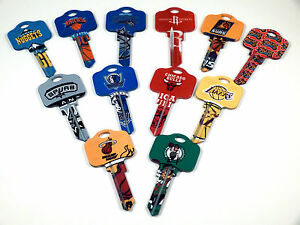key: (145, 131, 201, 217), (83, 128, 136, 211), (36, 73, 90, 145), (189, 74, 243, 143), (148, 64, 197, 136), (91, 63, 140, 135), (233, 26, 290, 85), (5, 19, 61, 79), (102, 6, 148, 67), (151, 6, 197, 67), (197, 12, 243, 73), (53, 9, 99, 67)
